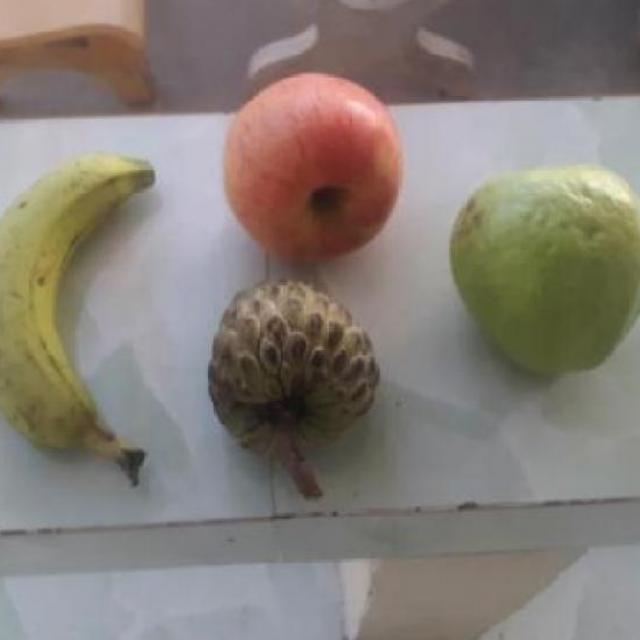apple: (0, 154, 163, 466)
guava: (459, 173, 640, 374)
pear: (218, 73, 412, 261)
sugar apple: (209, 282, 391, 470)
